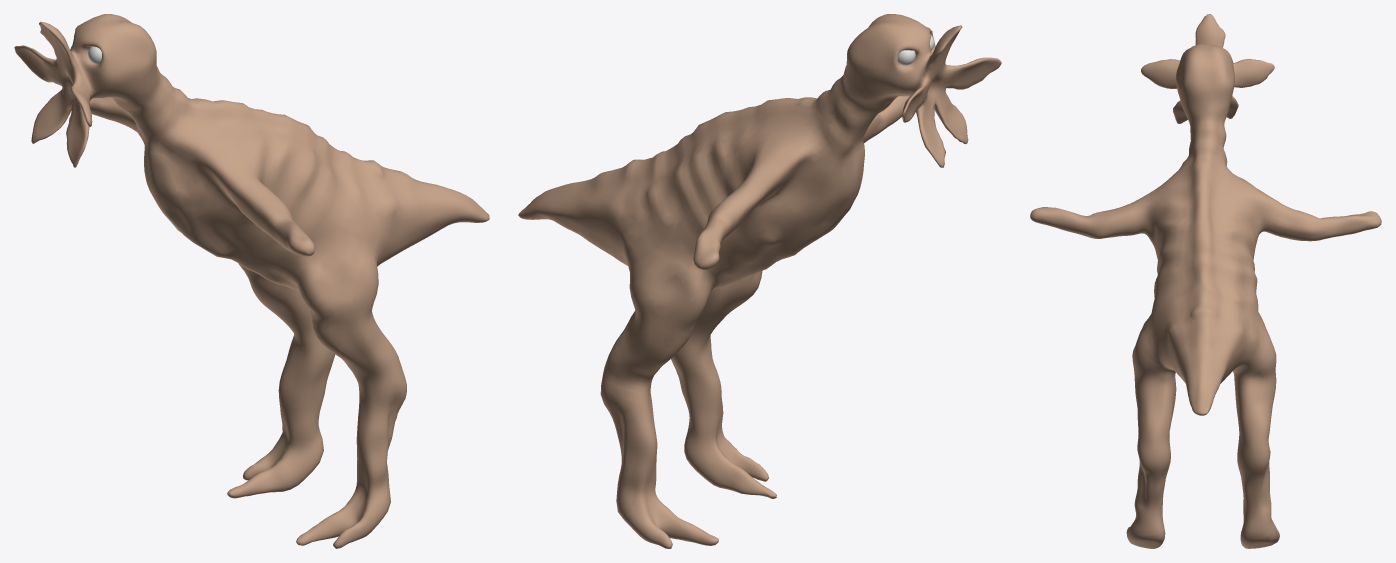
Rendered from Enemy_Basic_1.fbx.
The picture shows the model from 3 angles, left to right: view 1: azimuth 30°, elevation 25°; view 2: azimuth 150°, elevation 25°; view 3: azimuth 270°, elevation 25°; orthographic projection. The views are drawn at different scales.
Parts seen in each view (by area): view 1: Enemy_LowPoly; view 2: Enemy_LowPoly; view 3: Enemy_LowPoly.
Boxes of the visible parts, x1,y1,x2,y2 form: Enemy_LowPoly: (14,14,489,548); Enemy_LowPoly: (518,14,1001,548); Enemy_LowPoly: (1030,14,1381,548).
Size of the model in its own units: 197 by 234 by 173.
